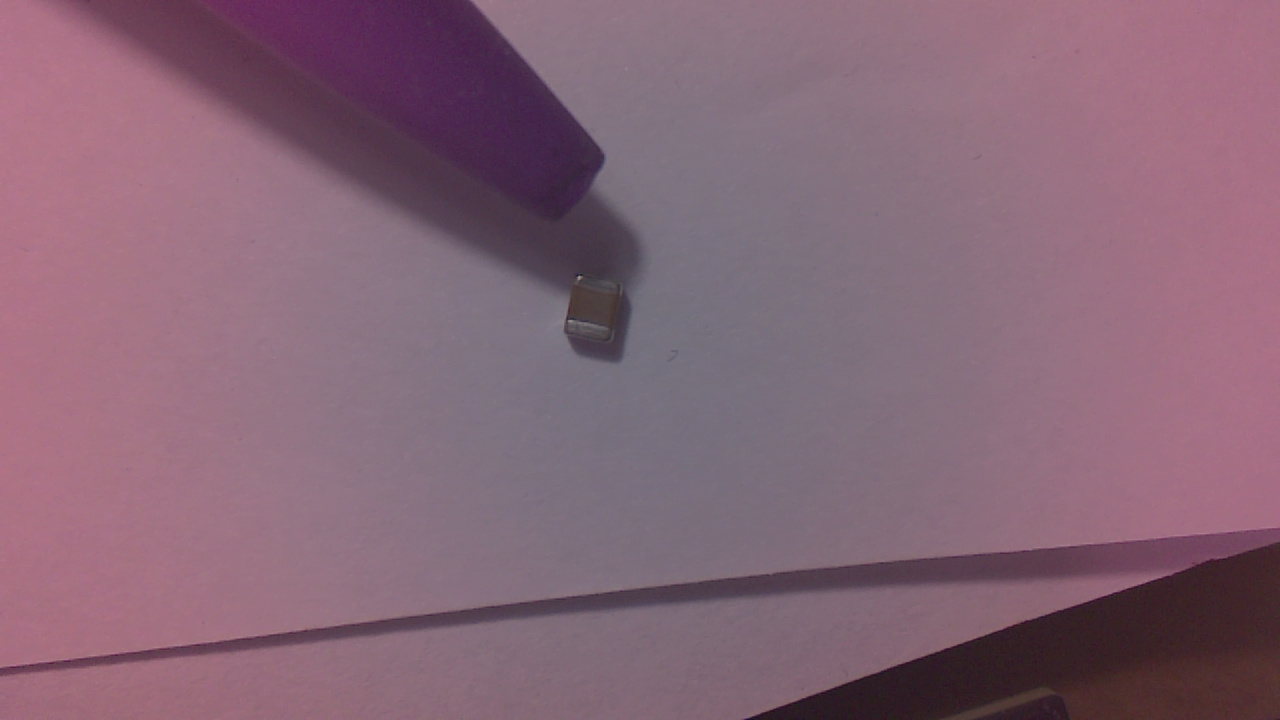Condensator: (564, 279, 635, 352)
